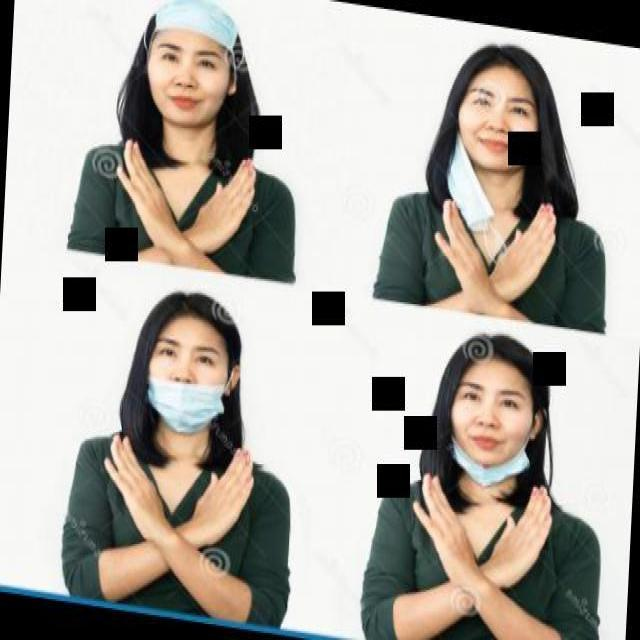hairnet: (448, 411, 530, 485), (145, 365, 225, 434)
